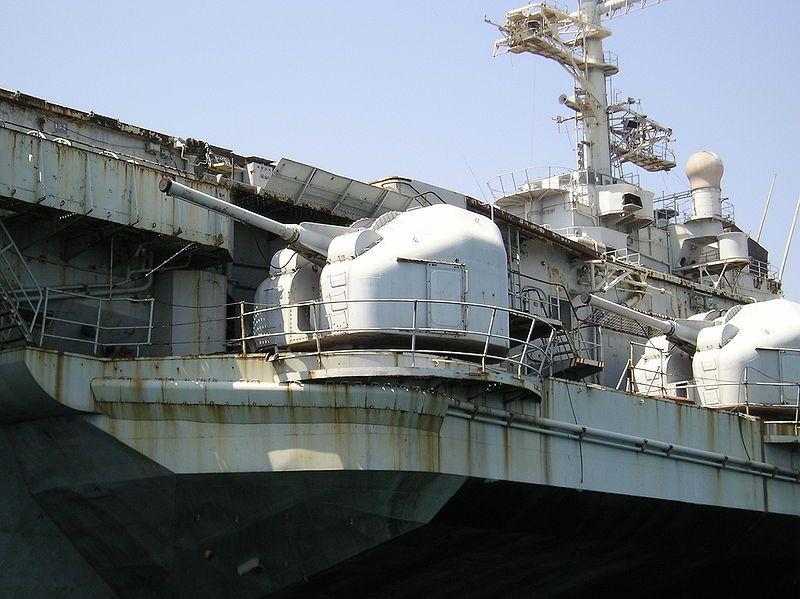rust: (109, 384, 431, 448), (673, 405, 768, 461), (36, 138, 118, 171)
